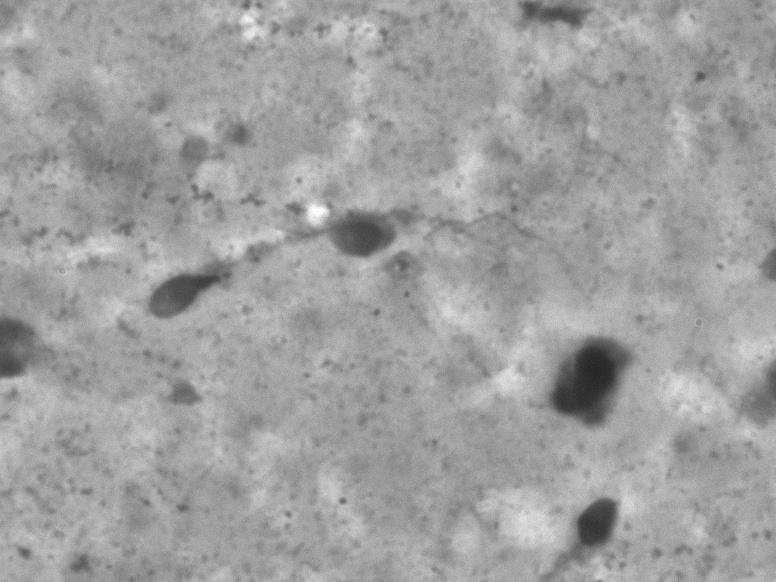Abnormal: (112, 172, 604, 335)
